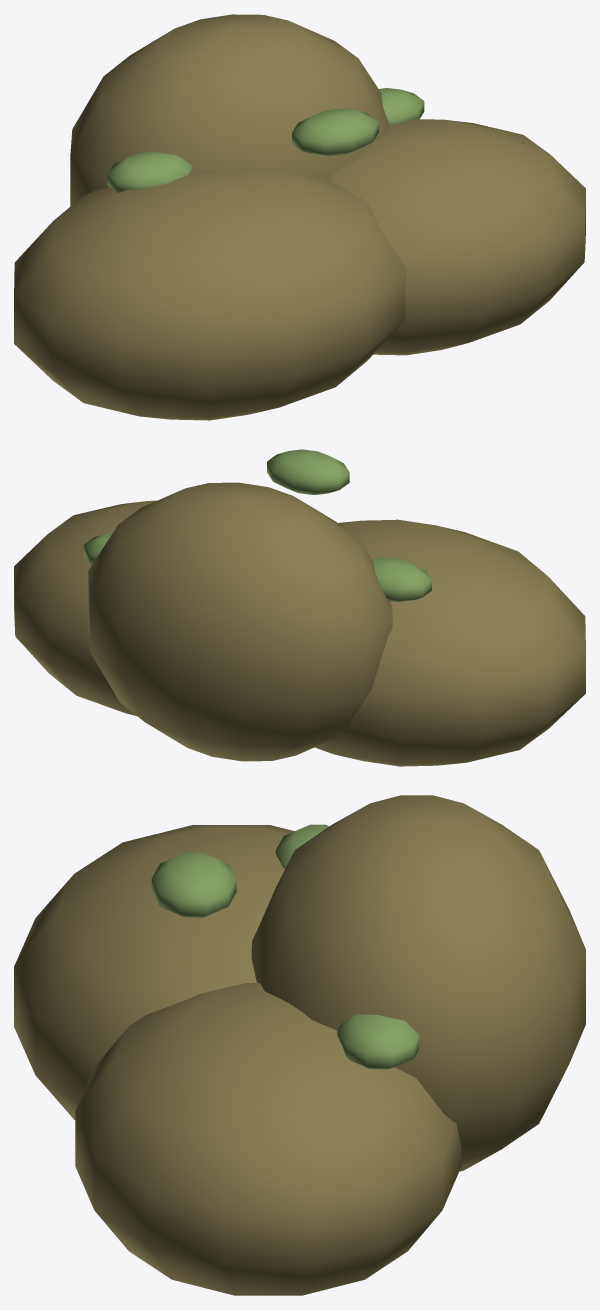
Rendered from item_rotten_food.glb.
The picture shows the model from 3 angles, top to bottom: view 1: azimuth 30°, elevation 25°; view 2: azimuth 150°, elevation 25°; view 3: azimuth 270°, elevation 25°; orthographic projection. The views are drawn at different scales.
Visible parts, largest first — view 1: item_rotten_food; view 2: item_rotten_food; view 3: item_rotten_food.
Boxes of the visible parts, x1,y1,x2,y2 form: item_rotten_food: (14,14,585,420); item_rotten_food: (14,449,585,766); item_rotten_food: (14,795,585,1295).
Size of the model in its own units: 0.3246 by 0.165 by 0.231.
